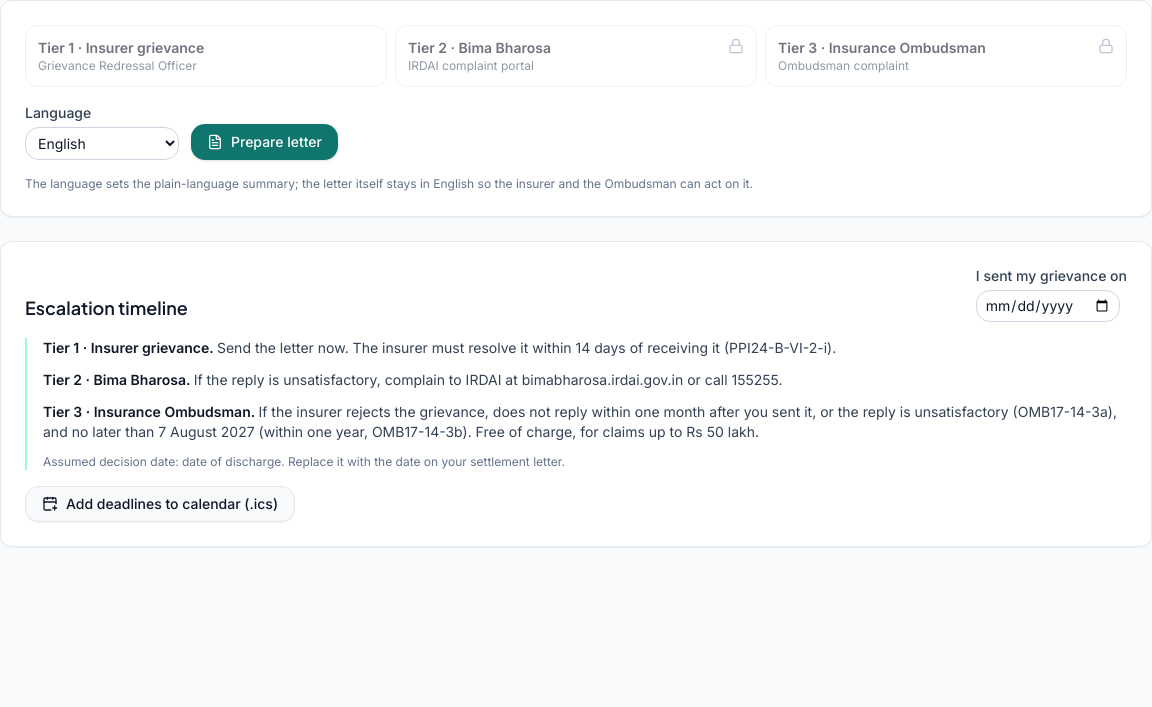
Test: ActionCentre: letter, timeline and exports › the letter is editable and the preview shows the edited text
Click the button "Prepare letter".
click(264, 142)  # box [191,124,338,160]
(page scrolled)
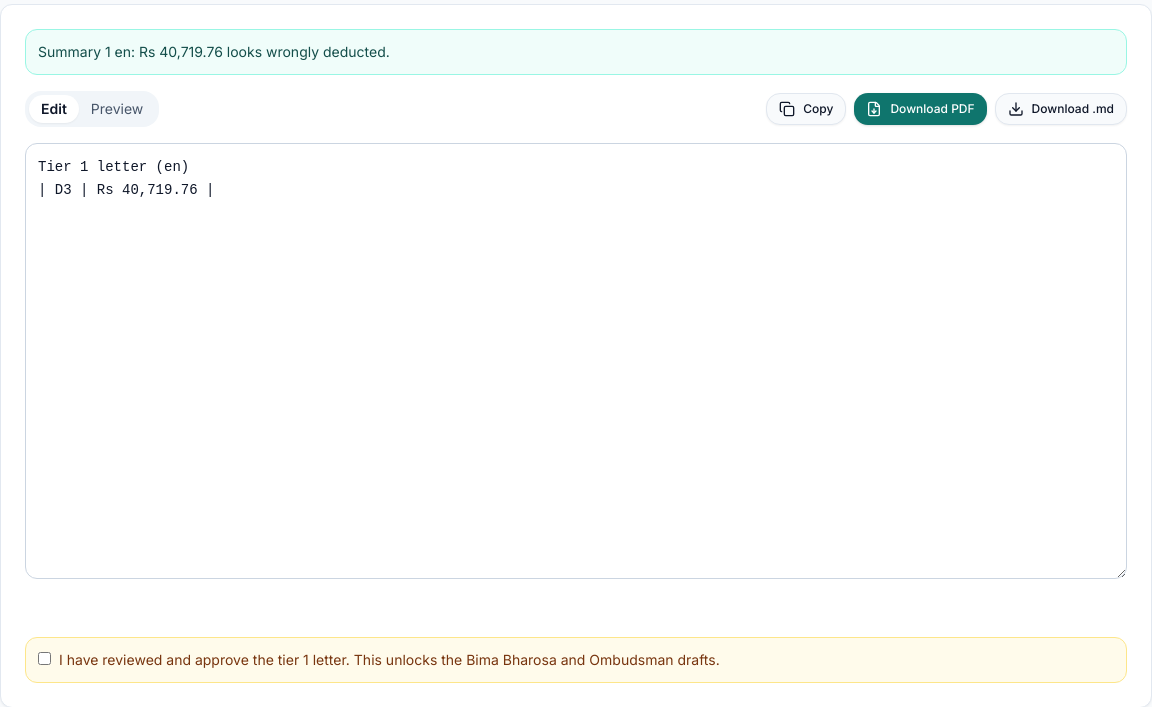
Expected: the text box showing "Tier 1 letter" is shown
Replace the text in the text box named "Letter" with "My edited letter" at (576, 361), box [25,143,1127,578]
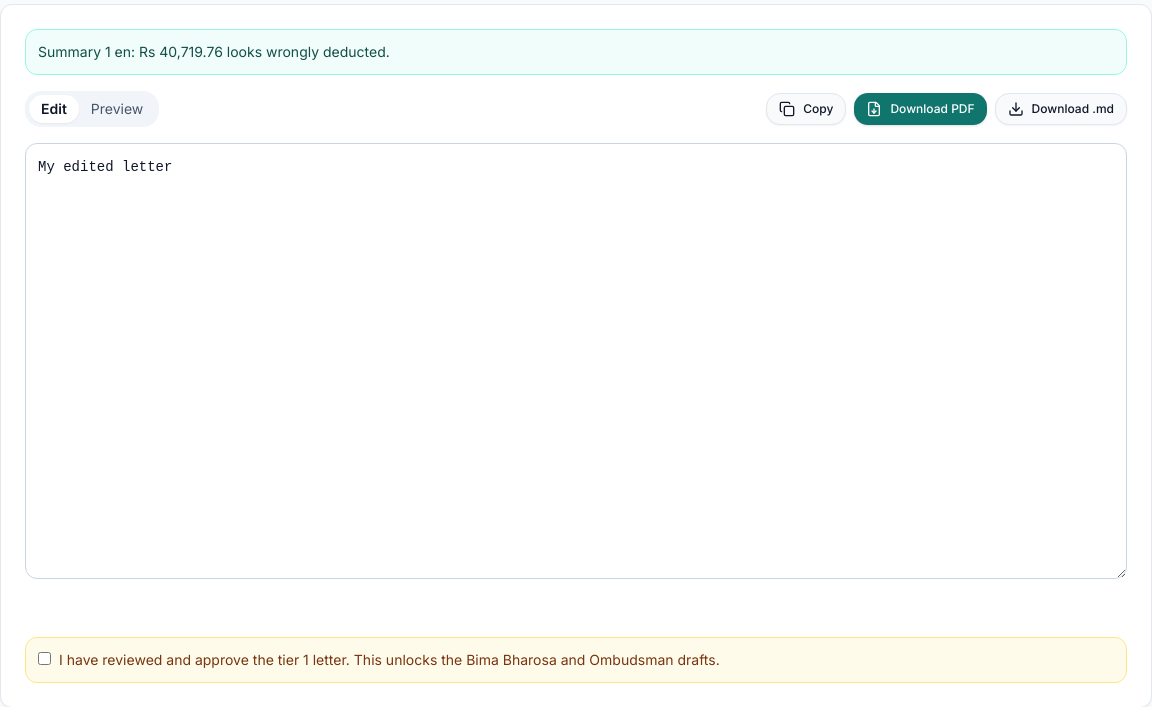
Click the button "Preview".
click(117, 109)  # box [79,95,155,123]
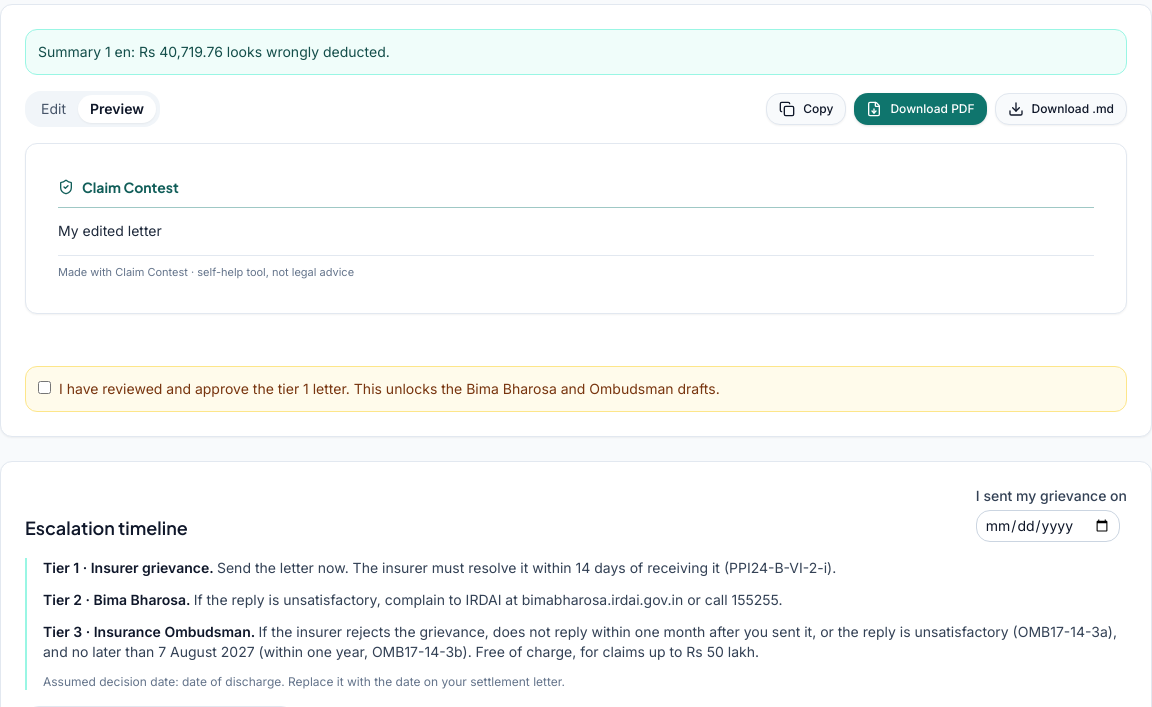
Expected: the element with test id "letter-preview" shows "My edited letter", [58,222,162,239]
